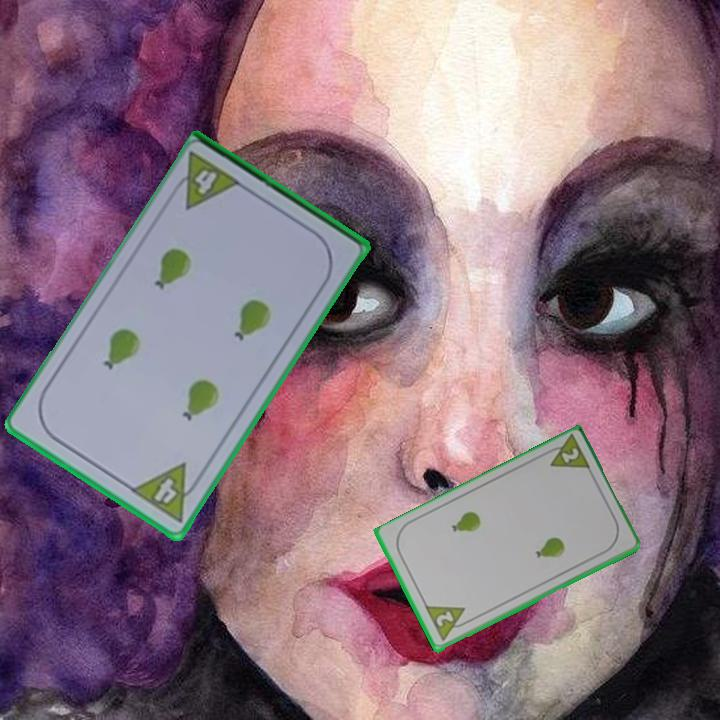2p: (422, 602, 473, 644), (557, 444, 582, 467)
4p: (127, 459, 207, 526), (166, 149, 245, 213)
